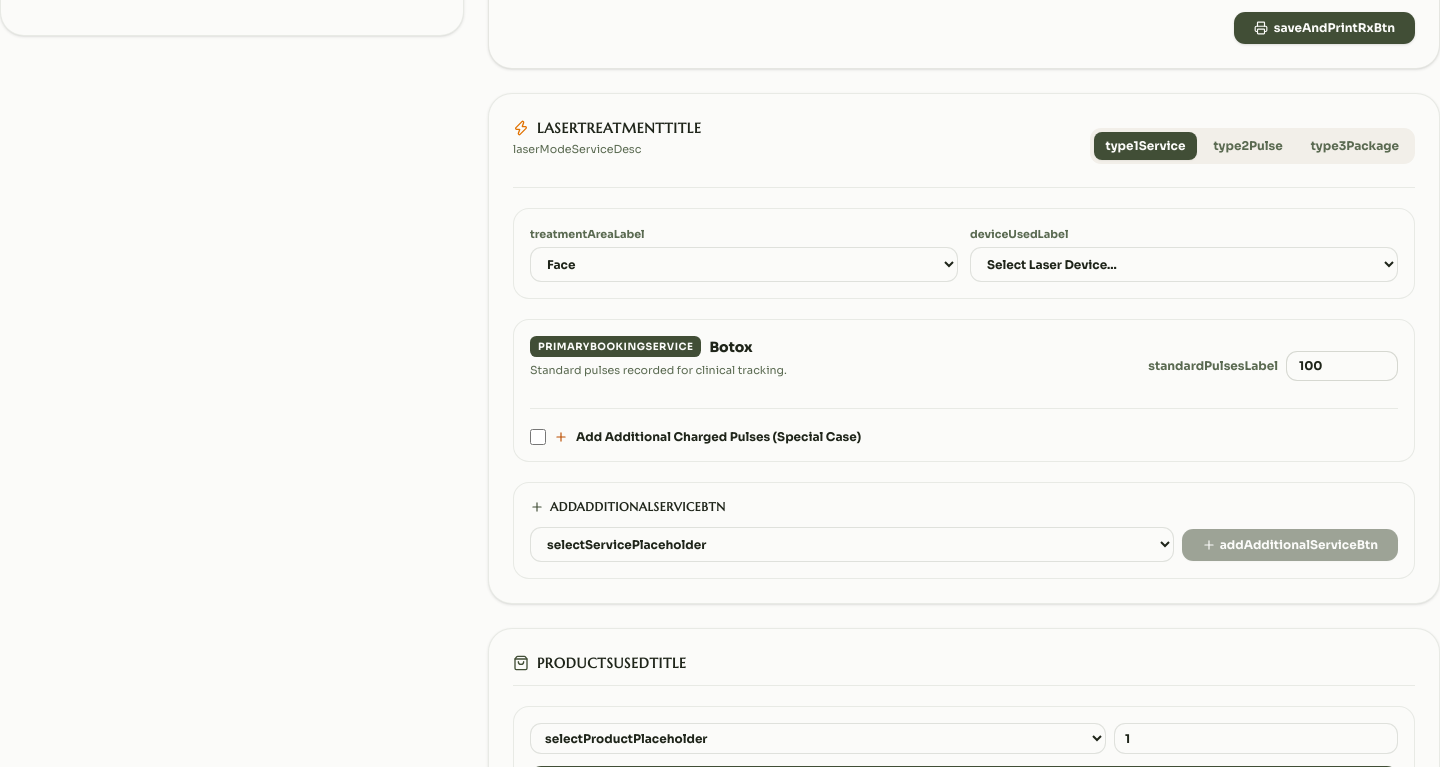
it: additional services + laser extra pulses — money math › a negative Standard Pulses entry is clamped to zero, not carried into the total
(page scrolled)
Replace the text in the number field with placeholder "Pulses" next to "standardPulsesLabel" with "-50". click: (1342, 366)
box: [1286, 351, 1398, 381]
(page scrolled)
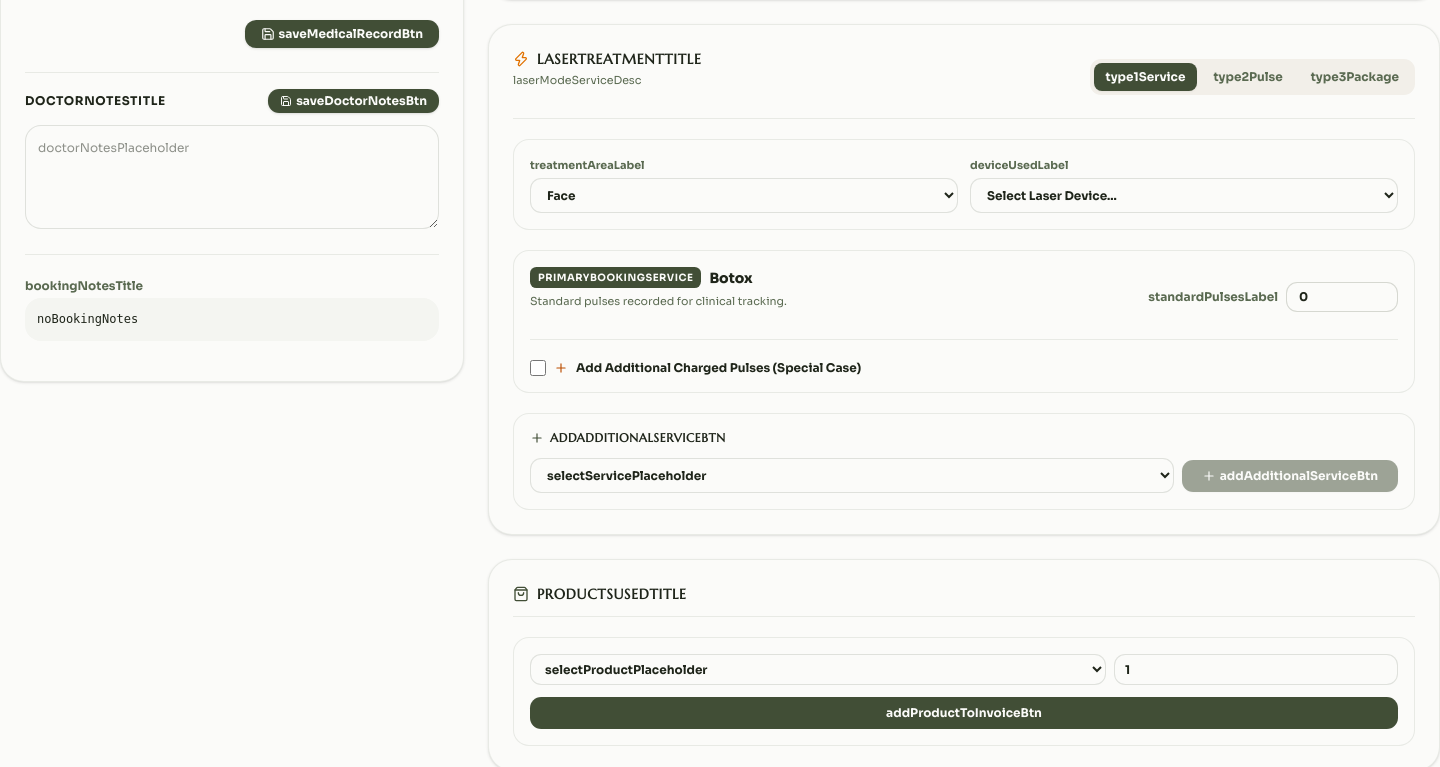
Expected: the number field with placeholder "Pulses" next to "standardPulsesLabel" holds "0", [1286, 282, 1398, 312]
